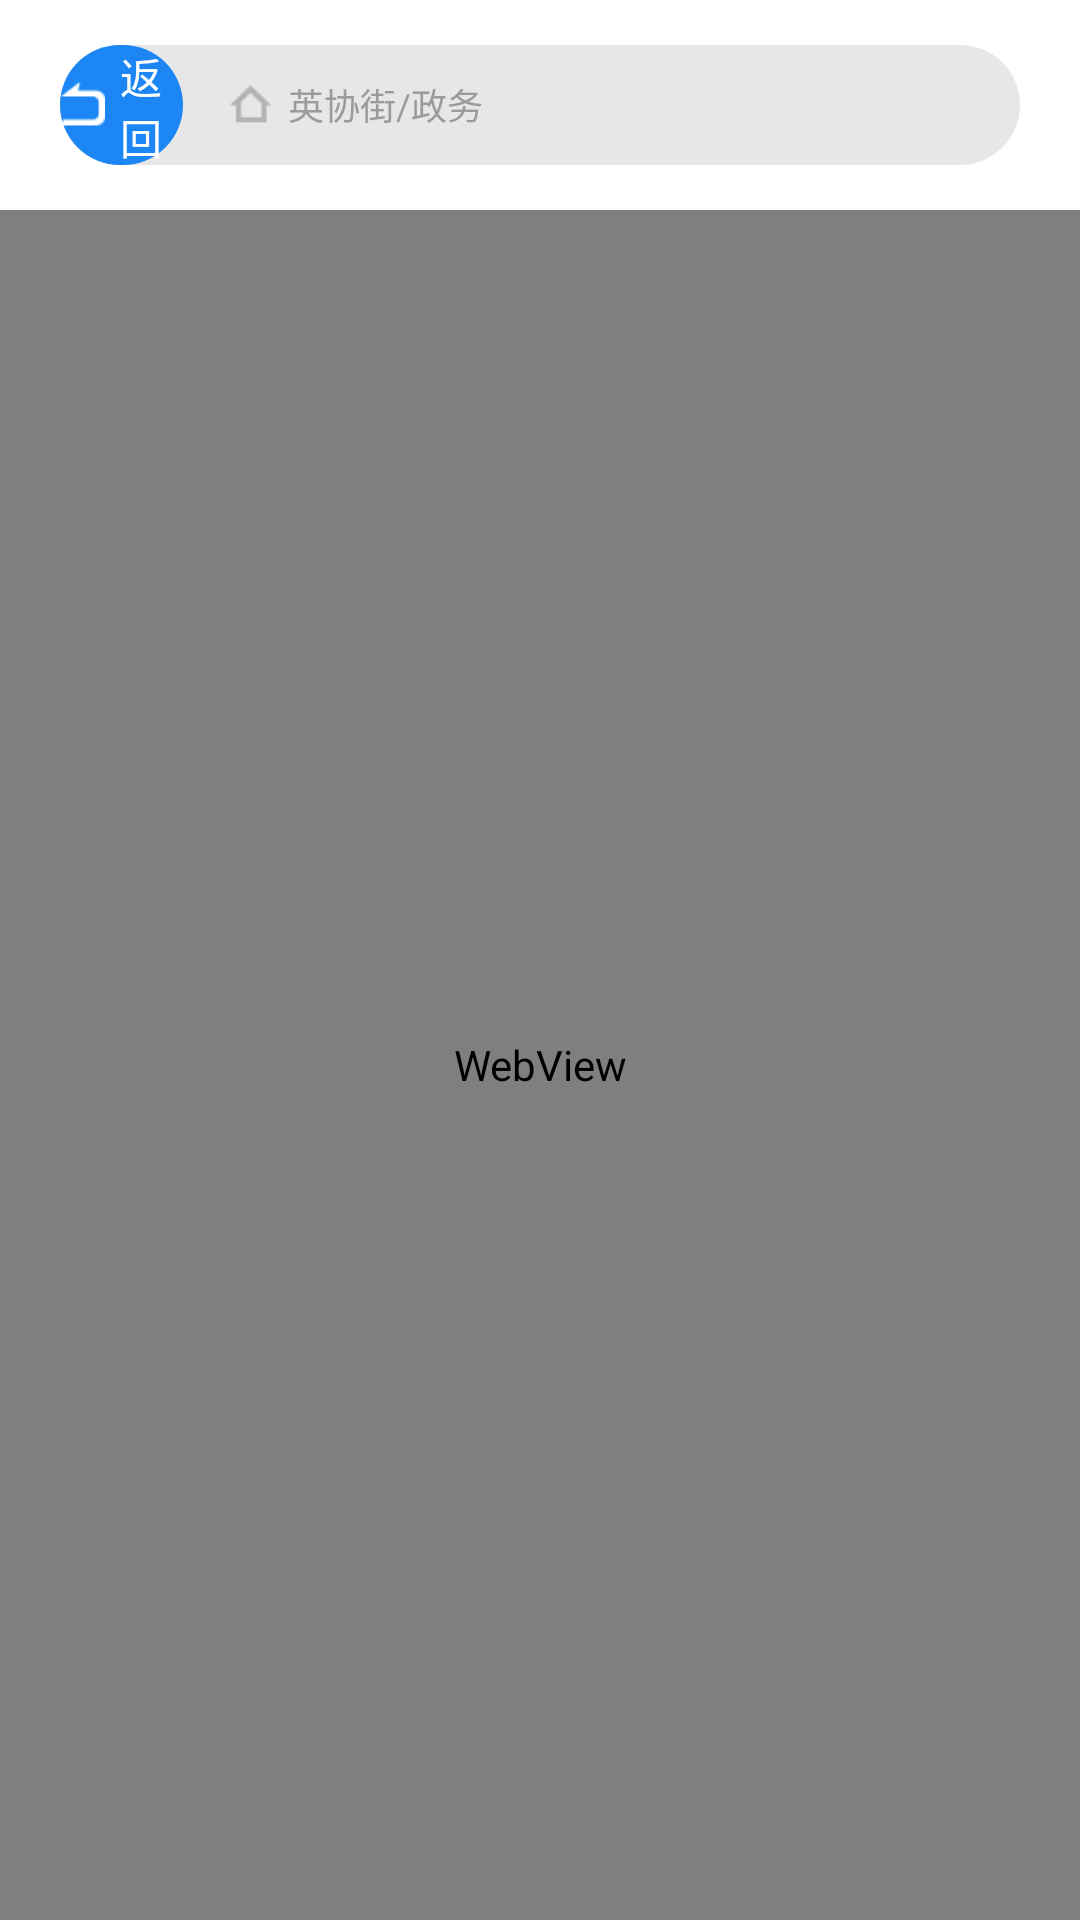

Screen size 1080 x 1920. Icon name, then its center in pixels as point (x, y):
crumb home: point (250, 104)
